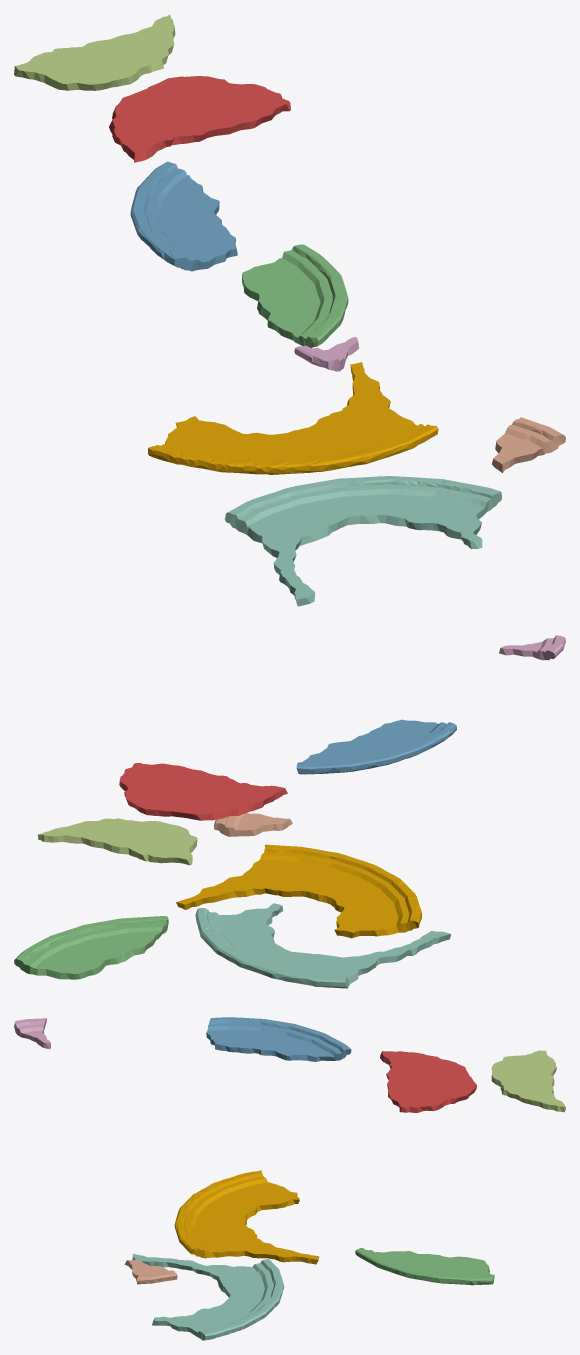
Rendered from fractured_76_8pcs_transformed.glb.
3 views of the same model, one above another, from view 1: azimuth 30°, elevation 25°; view 2: azimuth 150°, elevation 25°; view 3: azimuth 270°, elevation 25° (orthographic). The views are drawn at different scales.
Parts seen in each view (by area): view 1: piece_4.obj, piece_0.obj, piece_1.obj, piece_2.obj, piece_3.obj, piece_5.obj, piece_7.obj, piece_6.obj; view 2: piece_0.obj, piece_4.obj, piece_1.obj, piece_3.obj, piece_2.obj, piece_5.obj, piece_7.obj, piece_6.obj; view 3: piece_0.obj, piece_4.obj, piece_2.obj, piece_1.obj, piece_3.obj, piece_5.obj, piece_7.obj, piece_6.obj.
Boxes of the visible parts, left/top/right/bottom form: piece_4.obj: left=224, top=476, right=501, bottom=606; piece_0.obj: left=148, top=362, right=438, bottom=474; piece_1.obj: left=109, top=76, right=290, bottom=162; piece_2.obj: left=130, top=161, right=237, bottom=271; piece_3.obj: left=242, top=244, right=348, bottom=348; piece_5.obj: left=14, top=14, right=175, bottom=90; piece_7.obj: left=492, top=417, right=565, bottom=473; piece_6.obj: left=294, top=337, right=359, bottom=371; piece_0.obj: left=176, top=844, right=421, bottom=938; piece_4.obj: left=195, top=903, right=450, bottom=988; piece_1.obj: left=119, top=763, right=287, bottom=820; piece_3.obj: left=14, top=916, right=168, bottom=979; piece_2.obj: left=296, top=719, right=456, bottom=774; piece_5.obj: left=38, top=818, right=197, bottom=865; piece_7.obj: left=214, top=813, right=292, bottom=836; piece_6.obj: left=499, top=635, right=565, bottom=660; piece_0.obj: left=174, top=1170, right=319, bottom=1264; piece_4.obj: left=132, top=1253, right=284, bottom=1340; piece_2.obj: left=206, top=1017, right=351, bottom=1061; piece_1.obj: left=380, top=1051, right=476, bottom=1112; piece_3.obj: left=355, top=1248, right=494, bottom=1285; piece_5.obj: left=491, top=1050, right=565, bottom=1112; piece_7.obj: left=124, top=1260, right=177, bottom=1284; piece_6.obj: left=14, top=1018, right=50, bottom=1049.
Bounding box in the file's own units: 0.9865 × 0.8858 × 2.01.
